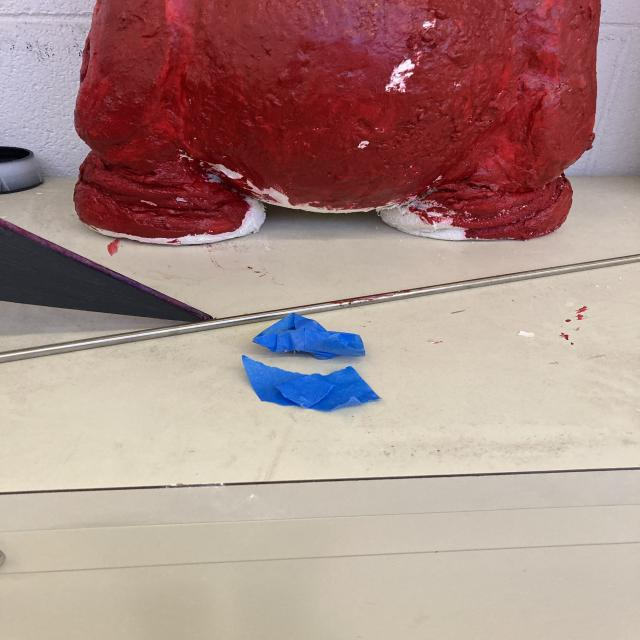paper: (233, 354, 383, 418), (239, 308, 385, 365)
trash-zQNu: (228, 356, 383, 418), (242, 308, 386, 366)
